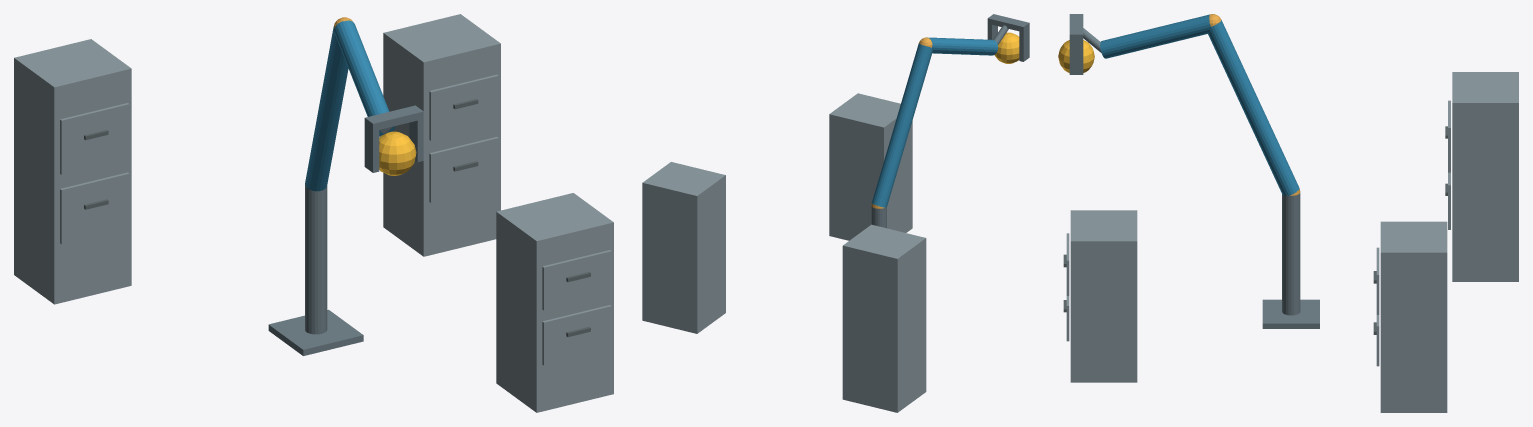
3 views of the same model, side by side, from view 1: azimuth 30°, elevation 25°; view 2: azimuth 150°, elevation 25°; view 3: azimuth 270°, elevation 25° (orthographic). The views are drawn at different scales.
Visible parts, largest first — view 1: cabinet_3 body, cabinet_1 body, cabinet_2 body, cabinet_3 drawer front, cabinet_3 drawer front.001, cabinet_2 drawer front.001, cabinet_2 drawer front, fixed post, moving link 1, cabinet_1 drawer front, cabinet_1 drawer front.001, moving link 2 (+4 smaller); view 2: cabinet_3 body, cabinet_2 body, cabinet_1 body, moving link 1, moving link 2, ball ball_1, gripper bridge; view 3: cabinet_3 body, cabinet_2 body, cabinet_1 body, moving link 1, fixed post, moving link 2, pedestal, ball ball_1, gripper finger 1.
Boxes of the visible parts, box(x1,y1,x2,y2) form: cabinet_3 body: box(14, 39, 131, 304); cabinet_1 body: box(496, 193, 613, 412); cabinet_2 body: box(383, 14, 500, 256); cabinet_3 drawer front: box(60, 172, 129, 244); cabinet_3 drawer front.001: box(60, 103, 129, 174); cabinet_2 drawer front.001: box(429, 74, 498, 140); cabinet_2 drawer front: box(429, 137, 498, 202); fixed post: box(305, 185, 327, 334); moving link 1: box(305, 25, 348, 191); cabinet_1 drawer front: box(542, 305, 611, 365); cabinet_1 drawer front.001: box(542, 250, 611, 310); moving link 2: box(334, 20, 394, 136); cabinet_3 body: box(842, 224, 926, 412); cabinet_2 body: box(642, 162, 725, 333); cabinet_1 body: box(829, 93, 912, 240); moving link 1: box(871, 43, 932, 207); moving link 2: box(927, 37, 998, 55); ball ball_1: box(994, 32, 1019, 63); gripper bridge: box(987, 14, 1029, 32); cabinet_3 body: box(1452, 72, 1518, 281); cabinet_2 body: box(1380, 221, 1447, 412); cabinet_1 body: box(1070, 210, 1137, 382); moving link 1: box(1208, 20, 1299, 195); fixed post: box(1282, 193, 1300, 315); moving link 2: box(1100, 14, 1210, 58); pedestal: box(1262, 299, 1319, 328); ball ball_1: box(1058, 40, 1094, 72); gripper finger 1: box(1069, 40, 1083, 74).
Size of the model in its own units: 1.67 by 1.41 by 2.01.
